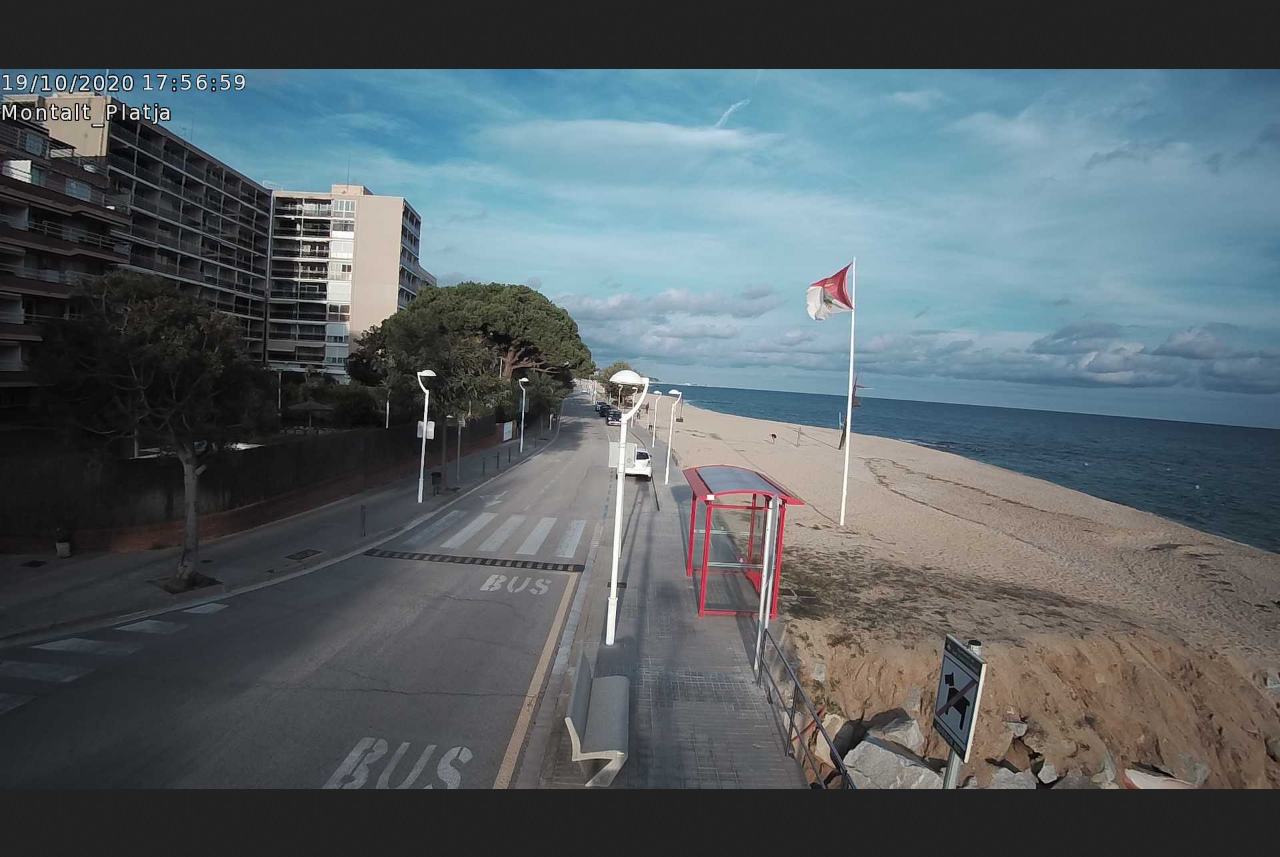yes: (805, 264, 854, 320)
